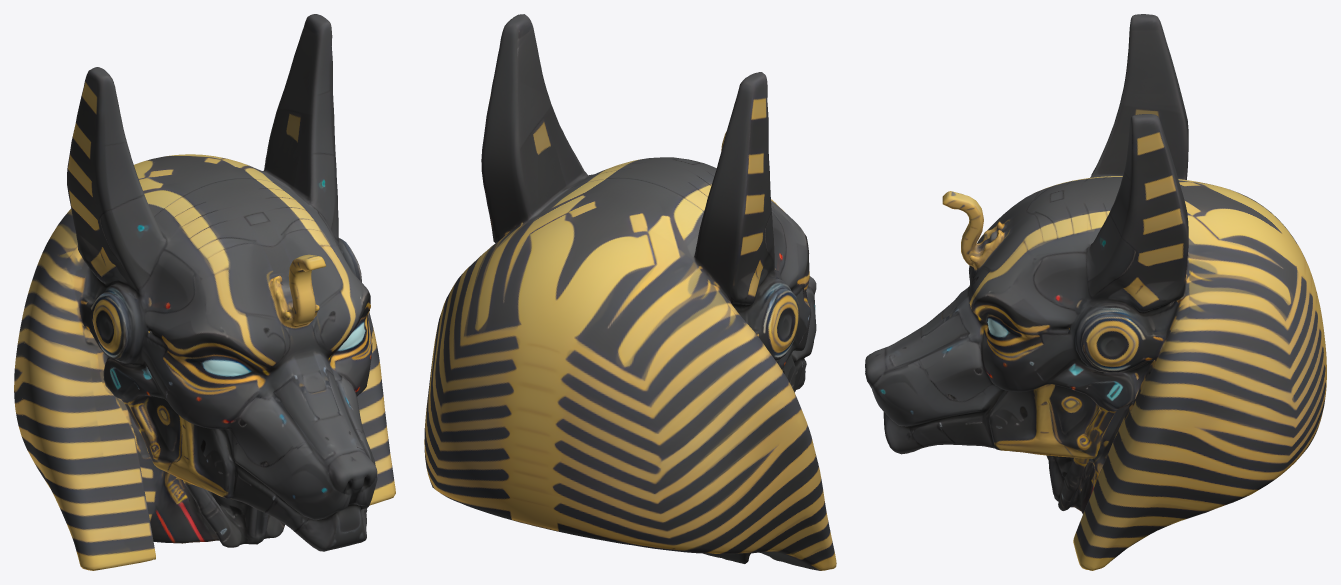
File: Anubis.glb
3 views of the same model, side by side, from view 1: azimuth 30°, elevation 25°; view 2: azimuth 150°, elevation 25°; view 3: azimuth 270°, elevation 25° (orthographic). The views are drawn at different scales.
Parts seen in each view (by area): view 1: model; view 2: model; view 3: model.
Boxes of the visible parts, x1,y1,x2,y2 form: model: (14,14,395,570); model: (424,14,836,570); model: (865,14,1326,570).
Bounding box in the file's own units: 1.44 × 1.91 × 1.84.
1 material, 1 textured.
